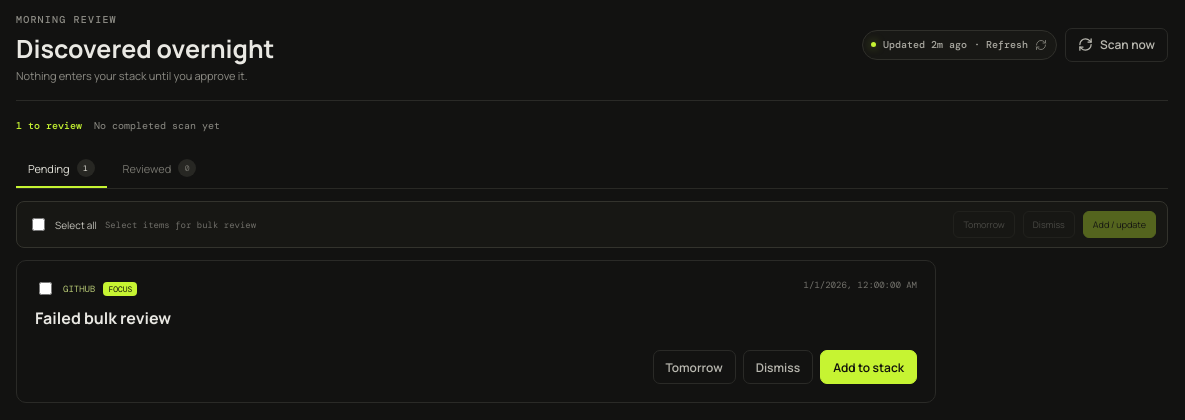
Test: DiscoveryInboxView freshness › shows the cache age and refetches current state in place when Refresh is clicked
Expected: the heading "Failed bulk review" is shown, [35,307,171,329]
Click the button with aria-label "Refresh data. Updated 2m ago" at [960, 44], box [862,30,1057,60]
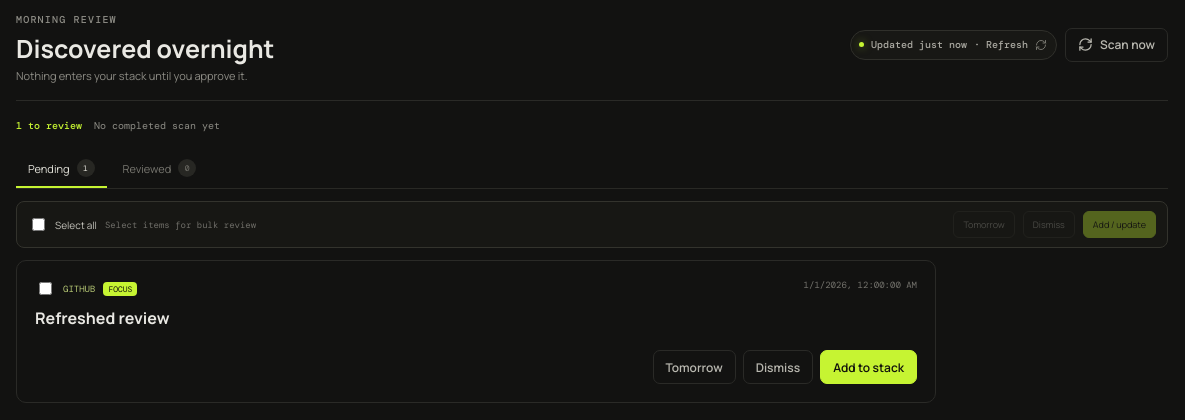
Expected: the button with aria-label "Refresh data. Updated just now" is enabled, [850,30,1057,60]
Result: the heading "Refreshed review" is shown at [35,307,170,329]
